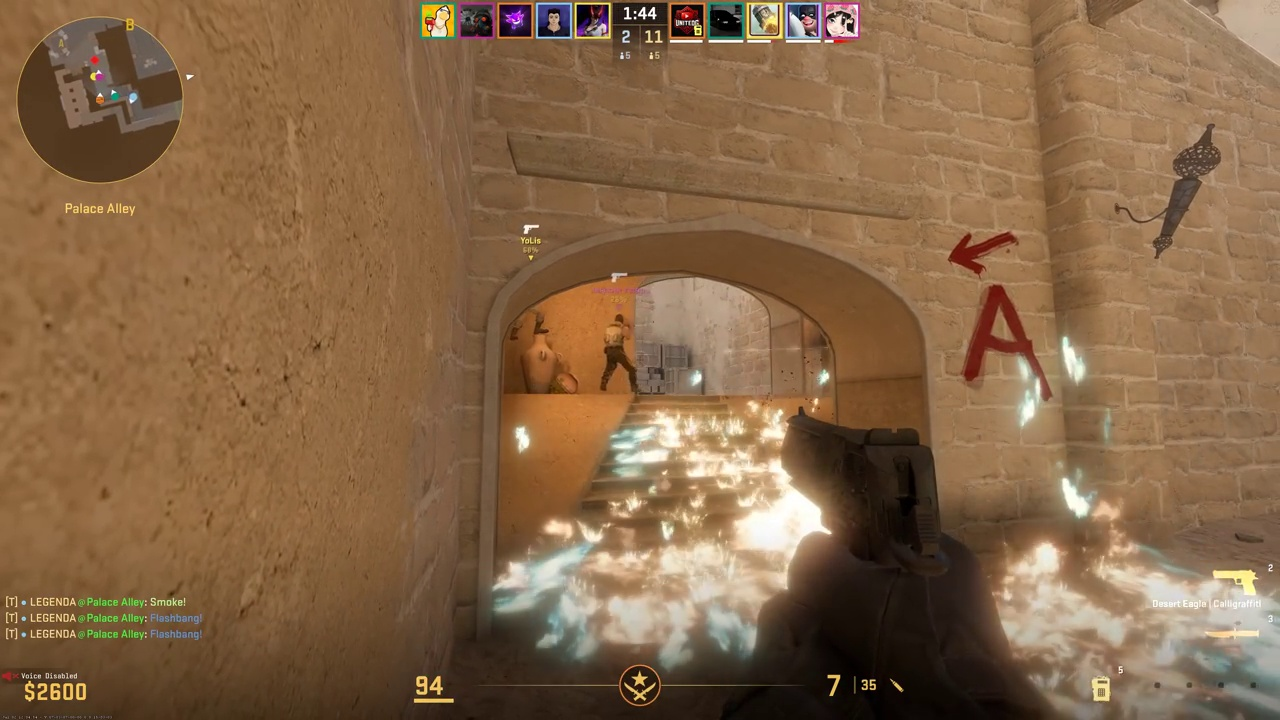Terrorist: (601, 314, 638, 392)
